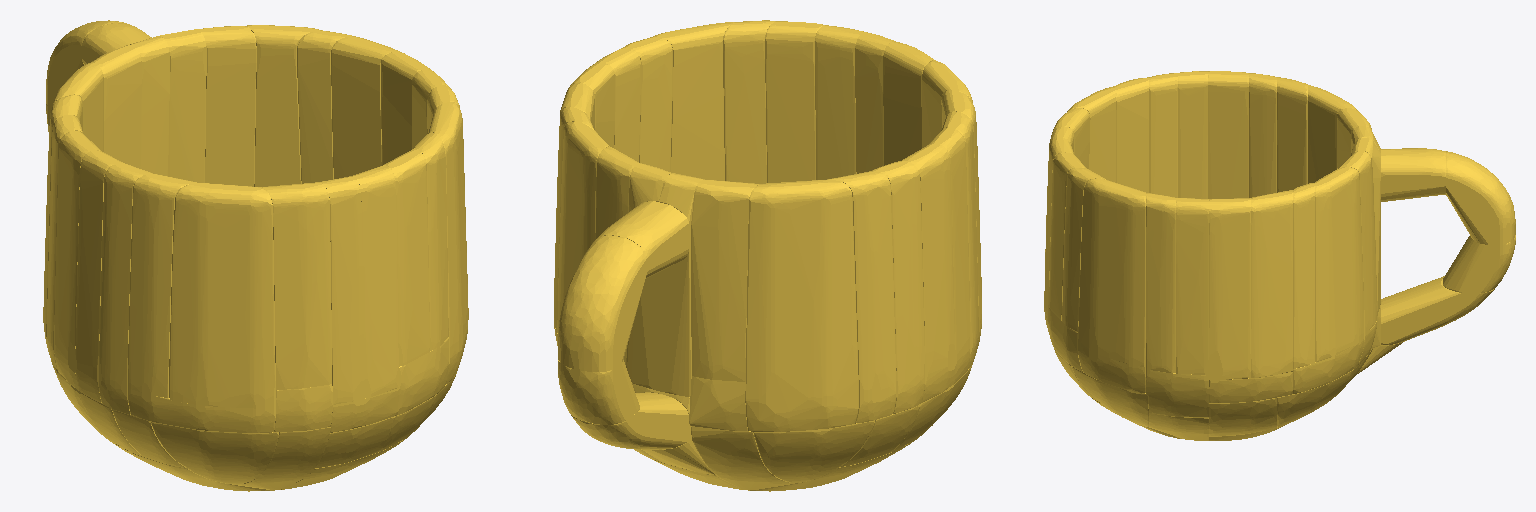
The robot description file, URDF, robot "509.urdf":
<?xml version="1.0" ?>
<robot name="509.urdf">
	<link name="baseLink">
		<inertial>
			<origin rpy="0 0 0" xyz="0 0 0"/>
				<mass value="0.1"/>
				<inertia ixx="6e-5" ixy="0" ixz="0" iyy="6e-5" iyz="0" izz="6e-5"/>
		</inertial>
		<visual>
			<origin rpy="0 0 0" xyz="0 0 0"/>
			<geometry>
				<mesh filename="29_decom_wt.obj" scale="0.94 0.94 0.81"/>
			</geometry>
			<material name="yellow">
				<color rgba="0.98 0.84 0.35 1"/>
			</material>
		</visual>
		<collision>
			<origin rpy="0 0 0" xyz="0 0 0"/>
			<geometry>
				<mesh filename="29_decom_wt.obj" scale="0.94 0.94 0.81"/>
			</geometry>
		</collision>
	</link>
</robot>

--- What the picture shows (computed from the rendered views, not written in the file) ---
Views: 3 orthographic renders of the robot side by side, from view 1: azimuth 30°, elevation 25°; view 2: azimuth 150°, elevation 25°; view 3: azimuth 270°, elevation 25°.
Model 509.urdf with 1 links and 0 joints (none), rooted at baseLink, posed all joints at 0.
Visible links, largest first — view 1: baseLink; view 2: baseLink; view 3: baseLink.
Boxes of the visible links, x1,y1,x2,y2 form: baseLink: (43,20,468,491); baseLink: (554,20,981,491); baseLink: (1044,71,1515,440).
Size in the robot's own frame: 0.0862 by 0.1209 by 0.0765 metres.
Meshes: 1 distinct files referenced, 1 mesh visuals loaded (1 OBJ).